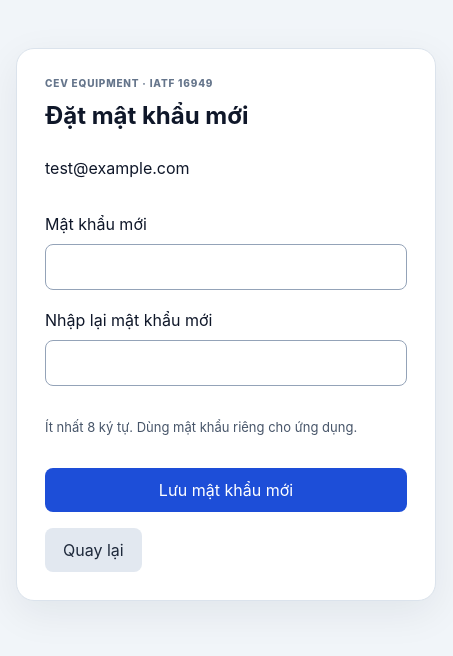
Scenario: validates confirmation then saves the password through Supabase
Type "New-password-123" into the password field labelled "Mật khẩu mới" at (226, 266), box [45,244,407,290]
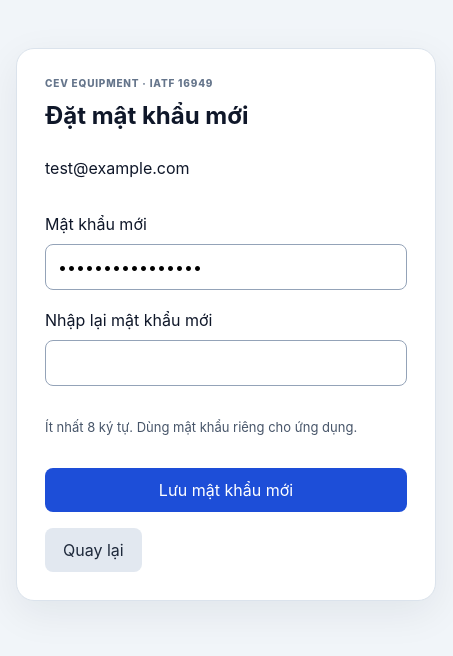
Type "Different-password" into the password field labelled "Nhập lại mật khẩu mới" at (226, 362), box [45,340,407,386]
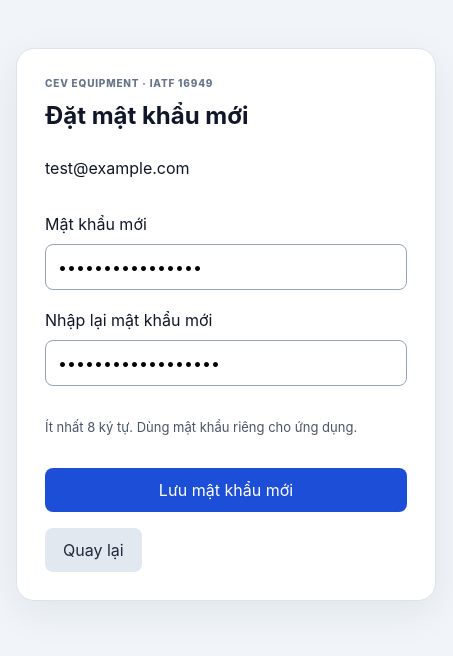
Click the button "Lưu mật khẩu mới" at (226, 490), box [45,468,407,512]
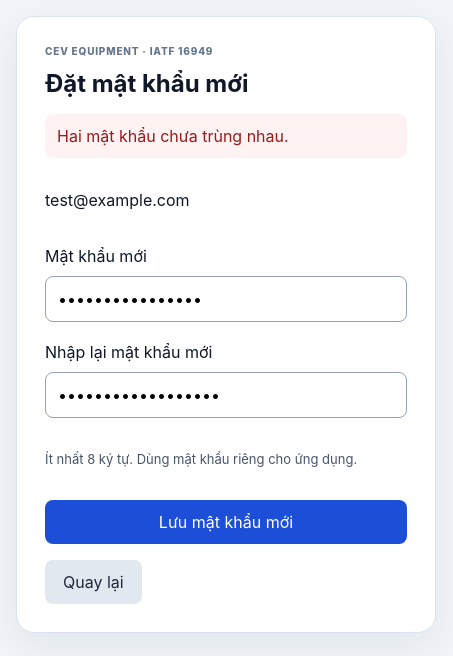
Expected: the message shows "chưa trùng nhau", [57,126,289,146]
Type "New-password-123" into the password field labelled "Nhập lại mật khẩu mới" at (226, 394), box [45,372,407,418]
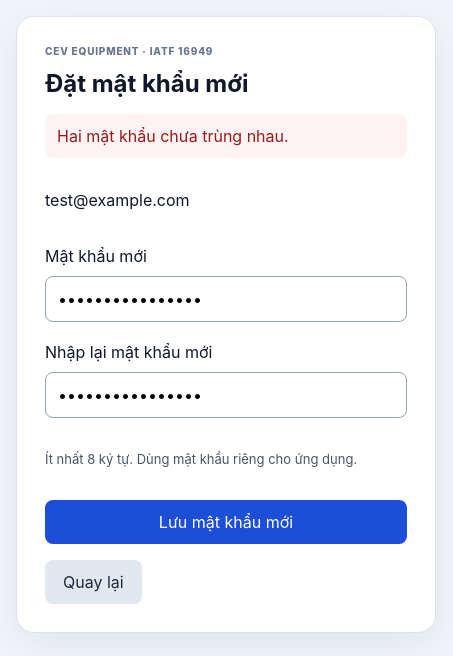
Click the button "Lưu mật khẩu mới" at (226, 522), box [45,500,407,544]
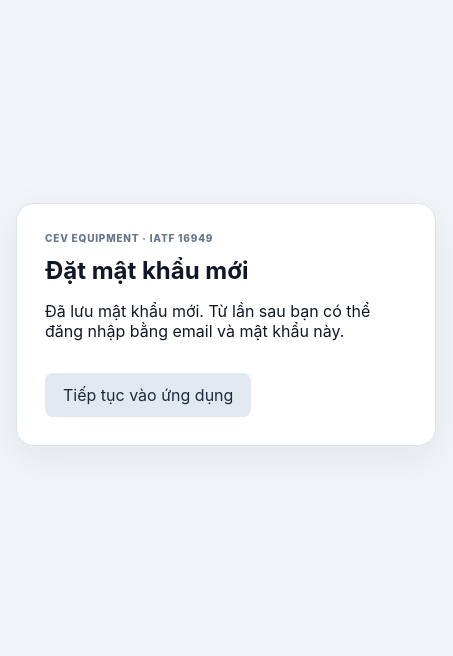
Expected: the message shows "Đã lưu mật khẩu mới", [45,300,370,340]
